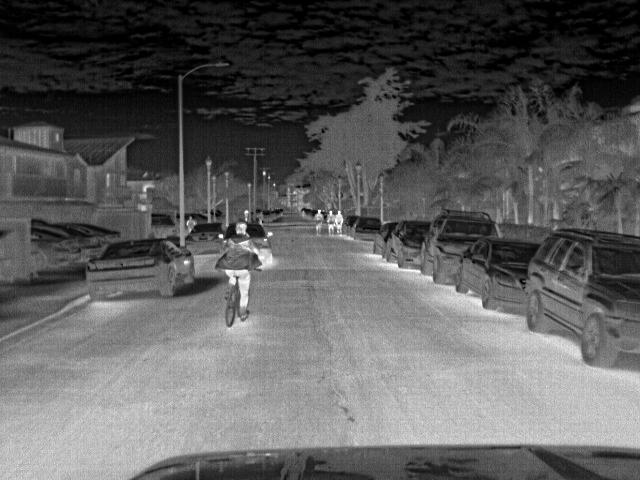car: (524, 225, 640, 371), (87, 237, 195, 304), (460, 240, 539, 314), (422, 210, 500, 284), (31, 218, 100, 262), (30, 228, 76, 280), (388, 220, 432, 268), (75, 218, 135, 243), (188, 224, 228, 254), (371, 222, 398, 260), (250, 223, 272, 268), (351, 216, 386, 244), (152, 215, 178, 237)
person: (220, 221, 256, 313), (323, 208, 337, 237), (334, 208, 347, 235), (312, 207, 324, 235), (185, 214, 197, 234)
